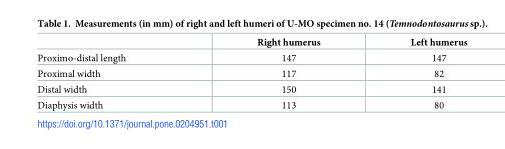table: (36, 36, 466, 110)
table column: (190, 36, 364, 110), (36, 36, 190, 110), (364, 36, 466, 110)
table column header: (36, 36, 466, 49)
table row: (36, 49, 466, 65), (36, 65, 466, 81), (36, 81, 466, 97), (36, 36, 466, 49), (36, 97, 466, 110)
